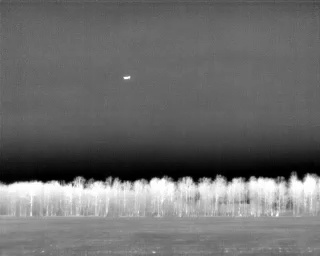DRONE: (120, 72, 134, 84)
